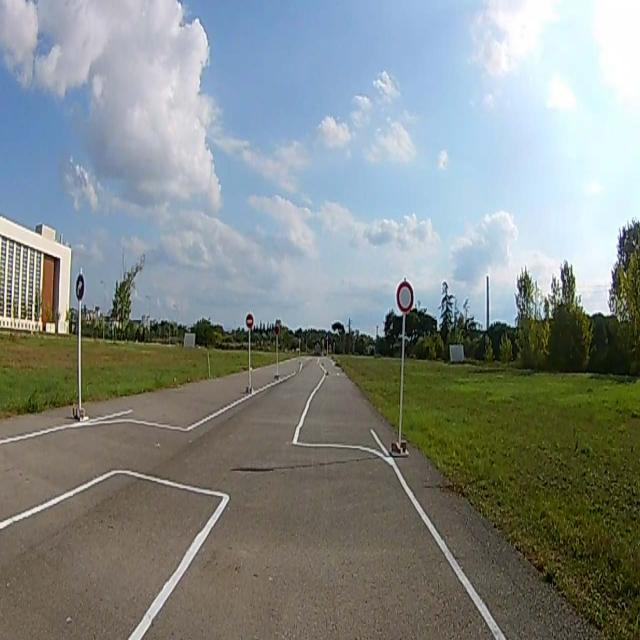girisyok: (245, 314, 253, 328)
sag: (76, 276, 84, 299)
